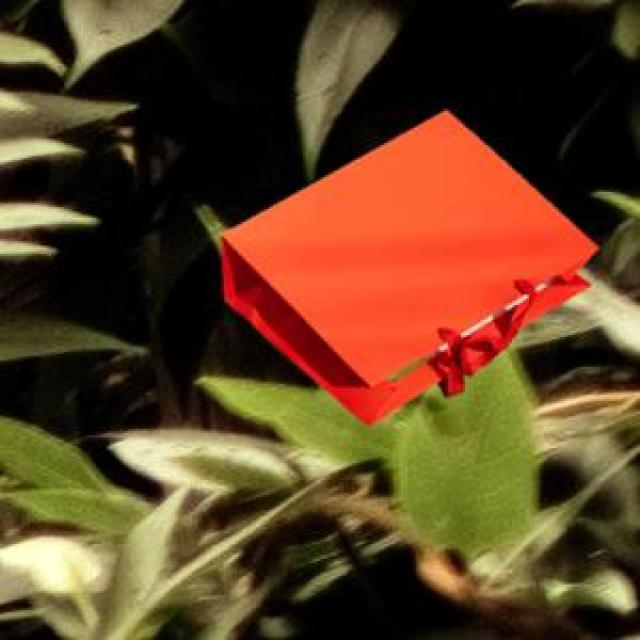Paper_Bag: (218, 108, 594, 424)
